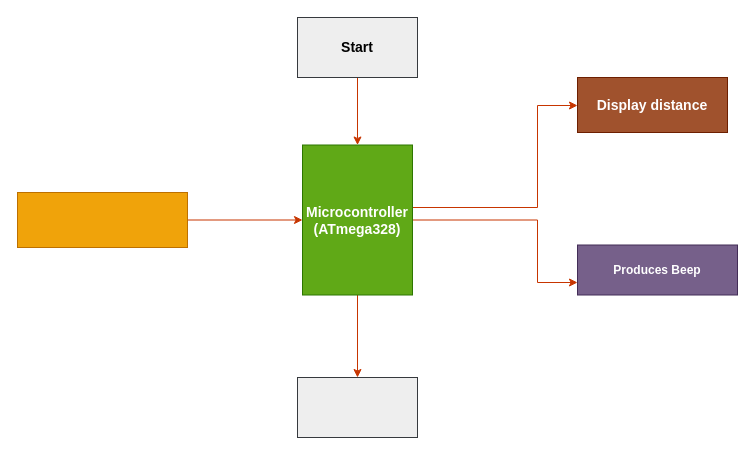
This 755x455 diagram has some shape labels left out. The box of each missing label's shape, as (x1, y1, x2, y2) in pixels:
End: (296, 376, 418, 438)
Sense the data (Calculate the distance): (16, 192, 188, 248)
